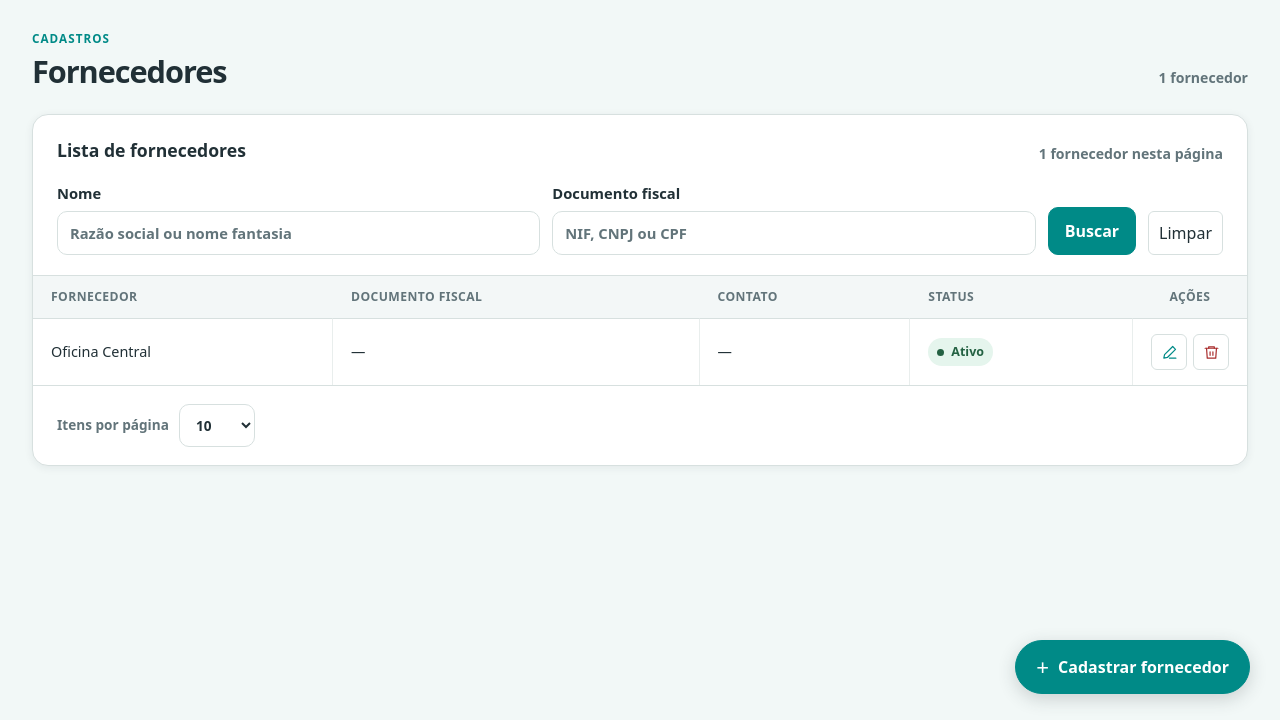
Test: supplier flows › shows a filtered empty state and clears the search
Check: the table is shown, box [33,276,1247,385]
In the search field labelled "Nome": x=299, y=233 [57,211,540,255], type "Inexistente"
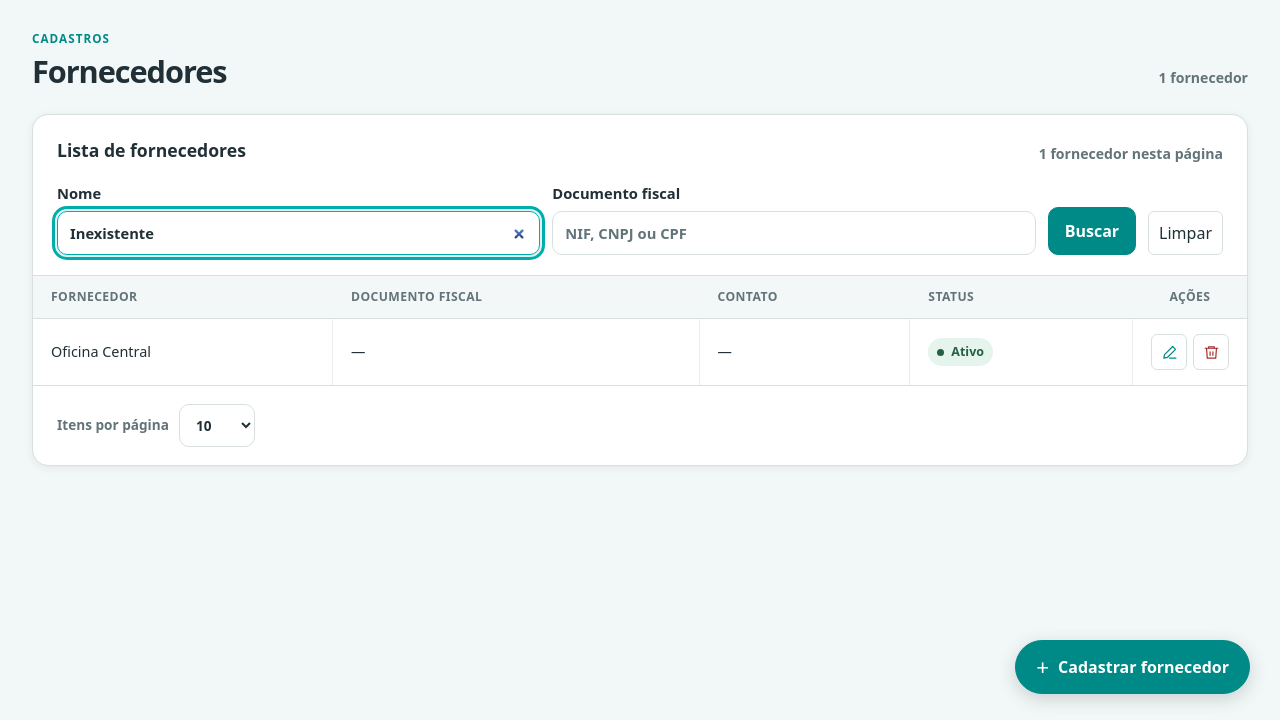
Click the button "Buscar": x=1092, y=231 [1048,207,1136,255]
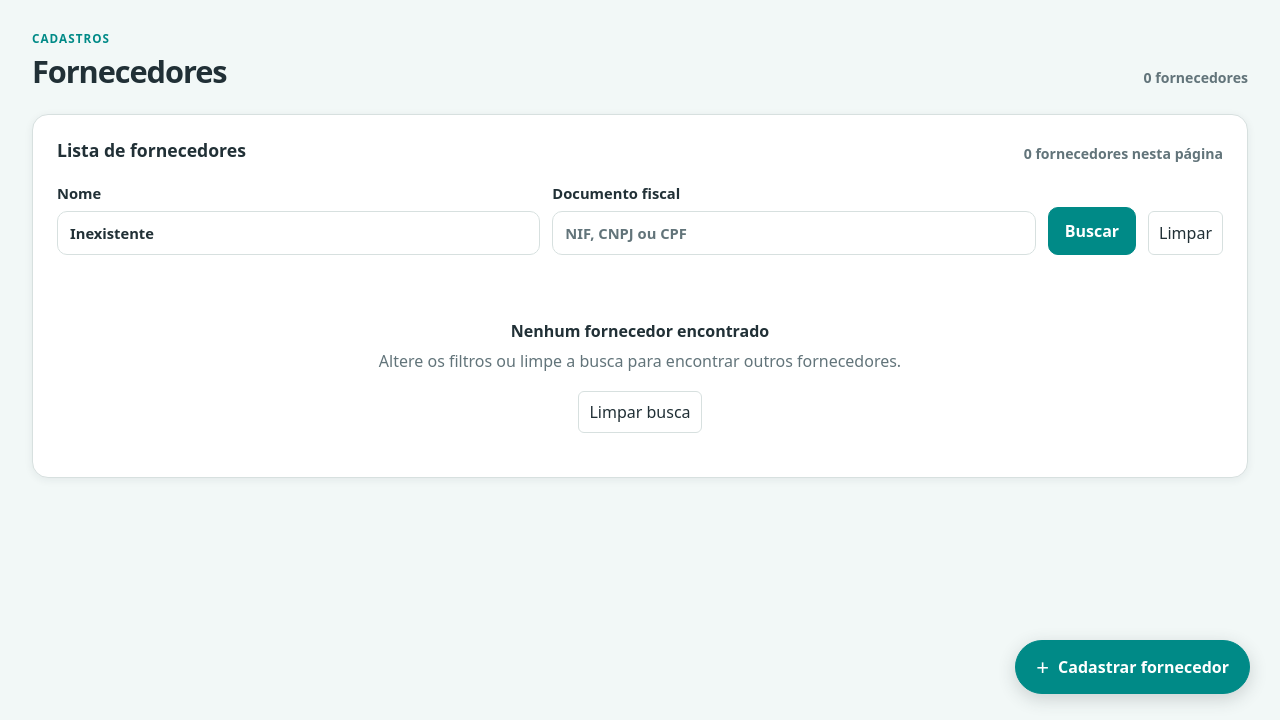
Check: the heading "Nenhum fornecedor encontrado" is shown, box [511,320,769,342]
Check: the text "Altere os filtros" is shown, box [379,350,901,372]
Click the button "Limpar busca": x=640, y=412 [578,391,702,433]
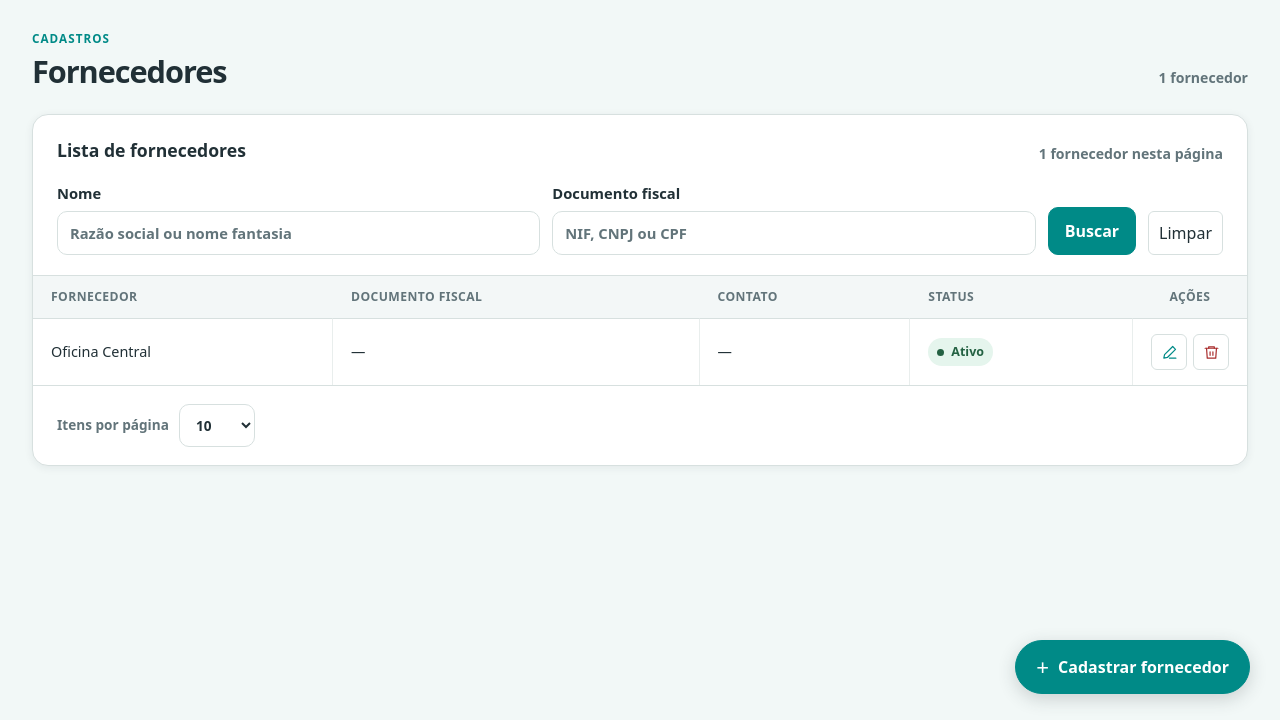
Check: the button "Oficina Central" is shown, box [51,341,151,363]
